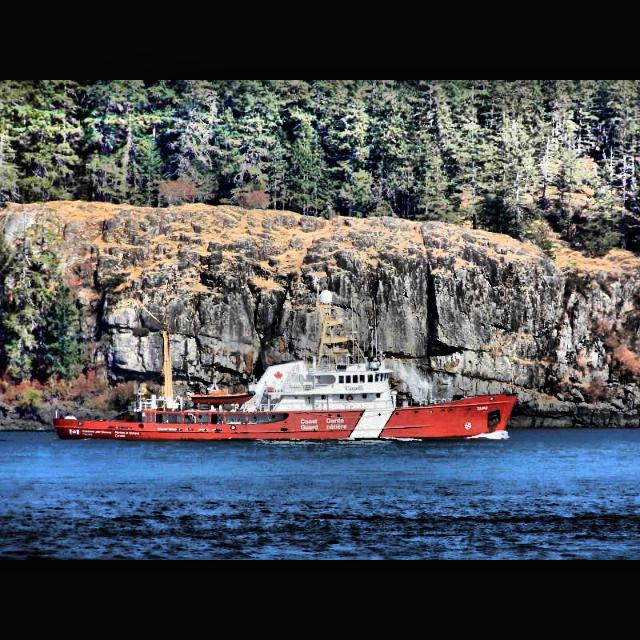patrol_vessel: (49, 285, 520, 443)
